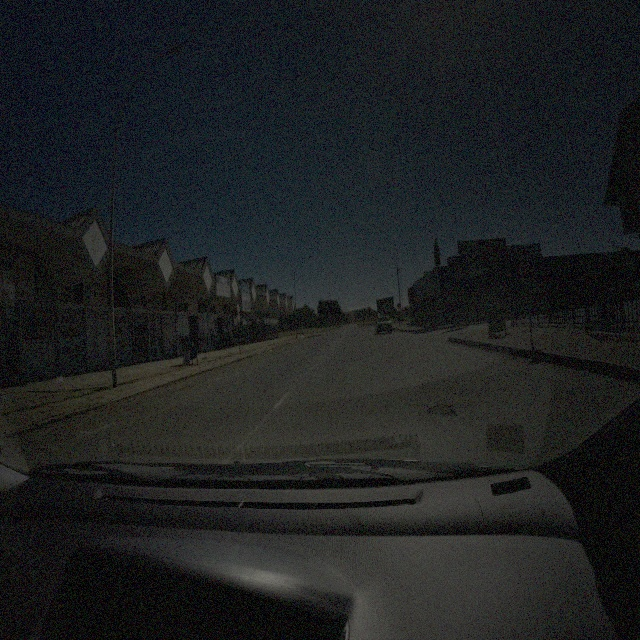pothole: (423, 398, 456, 418)
